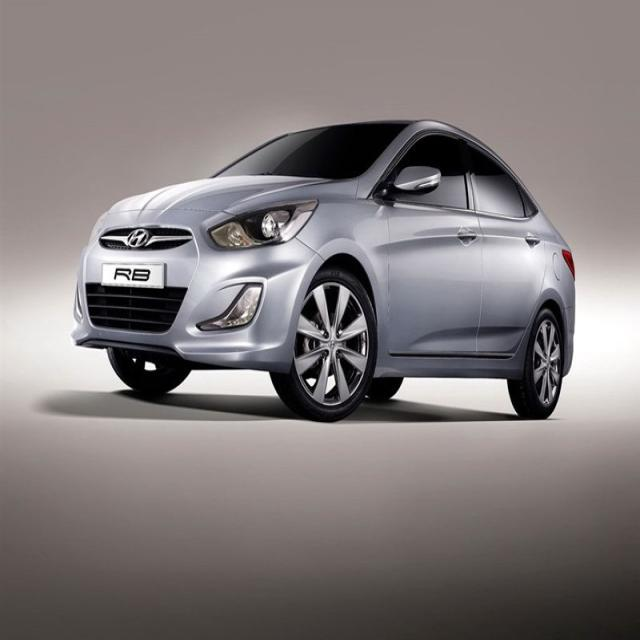back_right_side_light: (559, 248, 580, 284)
door: (464, 136, 554, 356)
front_bumper: (70, 238, 320, 369)
front_glass: (205, 120, 411, 182)
front_left_side_door: (366, 118, 486, 364)
front_left_side_light: (206, 196, 321, 254)
front_left_side_mirror: (377, 167, 443, 205)
wheel: (271, 268, 376, 417), (508, 308, 562, 418)
